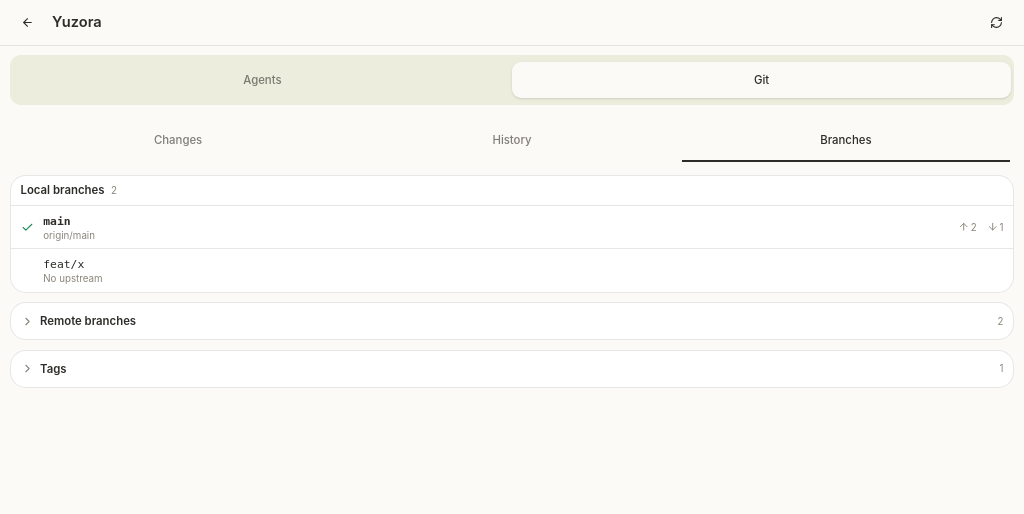
Test: Git branches › lists the current branch first with its tracking, and folds remotes and tags away
Expected: the text "origin/main" is shown, 43,230 -> 95,241
Expected: the list items read "mainorigin/main21", "feat/xNo upstream", in this order, 11,206 -> 1013,249; 43,257 -> 103,284
Click the button "Remote branches 2".
click(88, 321)  # box 11,303 -> 1013,339
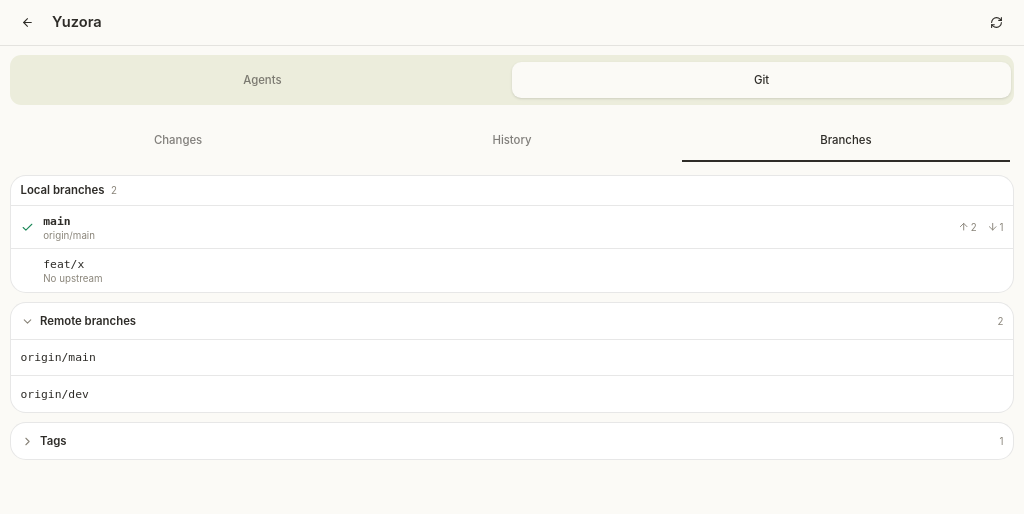
Expected: the text "v1.0.0" is not shown
Now the text "origin/dev" is shown, box 20,386 -> 89,402
Click the button "Tags 1".
click(27, 441)  # box 11,423 -> 1013,459
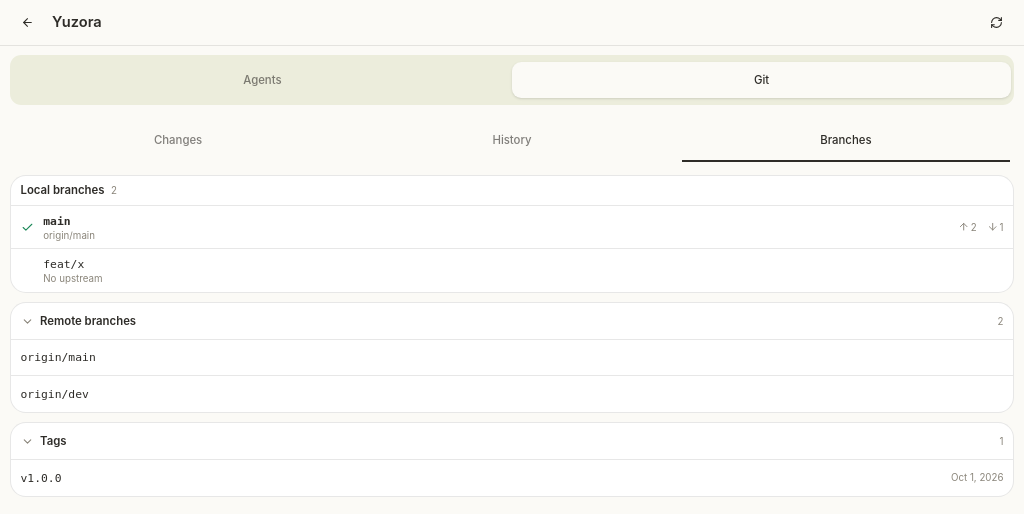
Now the text "v1.0.0" is shown, box 20,471 -> 62,485
